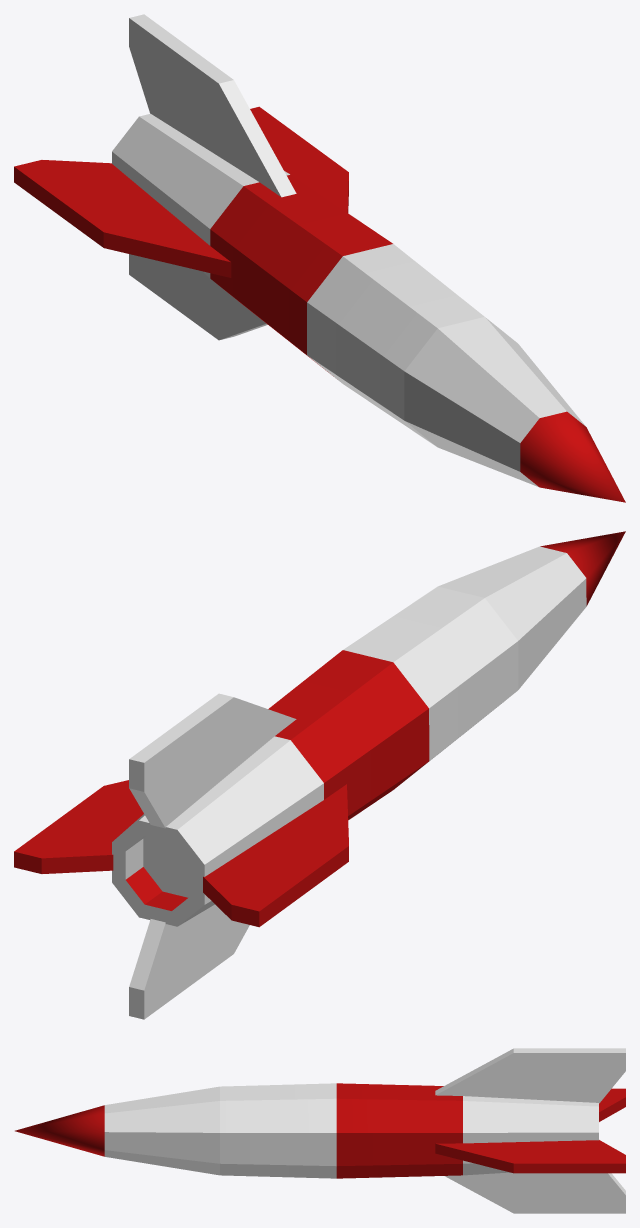
Rendered from SM_Veh_Missle_01.fbx.
3 renders of one model, top to bottom at view 1: azimuth 30°, elevation 25°; view 2: azimuth 150°, elevation 25°; view 3: azimuth 270°, elevation 25°, orthographic. The views are drawn at different scales.
Parts seen in each view (by area): view 1: SM_Veh_Missle_01; view 2: SM_Veh_Missle_01; view 3: SM_Veh_Missle_01.
Part boxes in pixels (box(x1,y1,x2,y2)): SM_Veh_Missle_01: box(14, 14, 625, 502); SM_Veh_Missle_01: box(14, 531, 625, 1019); SM_Veh_Missle_01: box(15, 1048, 625, 1213).
Bounding box in the file's own units: 2.33 × 8.06 × 2.33.
